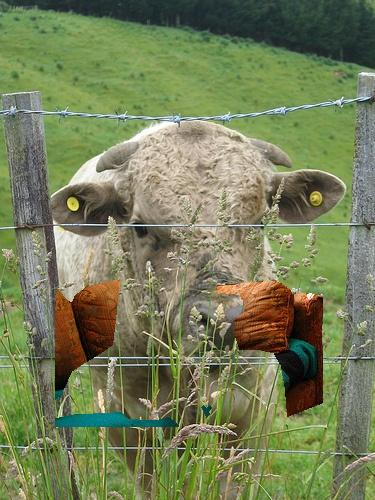tampered: (56, 280, 323, 427)
